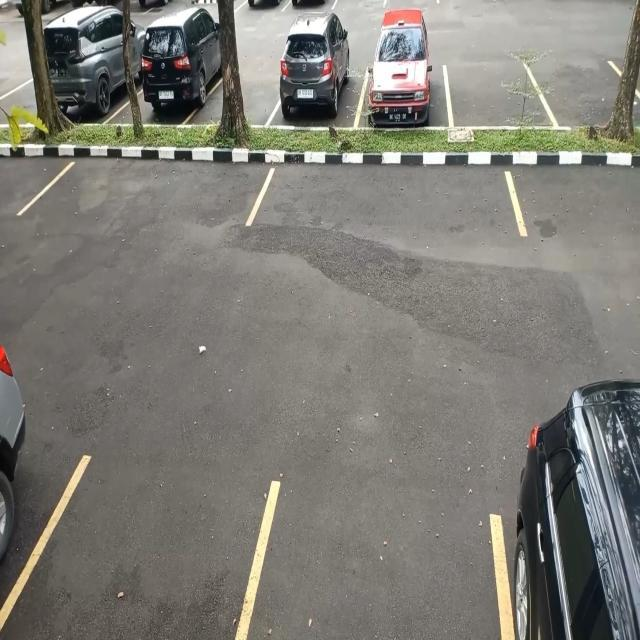Car: (271, 35, 363, 132), (138, 25, 220, 128), (361, 39, 448, 134), (46, 23, 124, 126)
Vacant: (263, 153, 523, 248), (41, 152, 264, 235), (540, 56, 638, 132), (448, 55, 542, 128)
